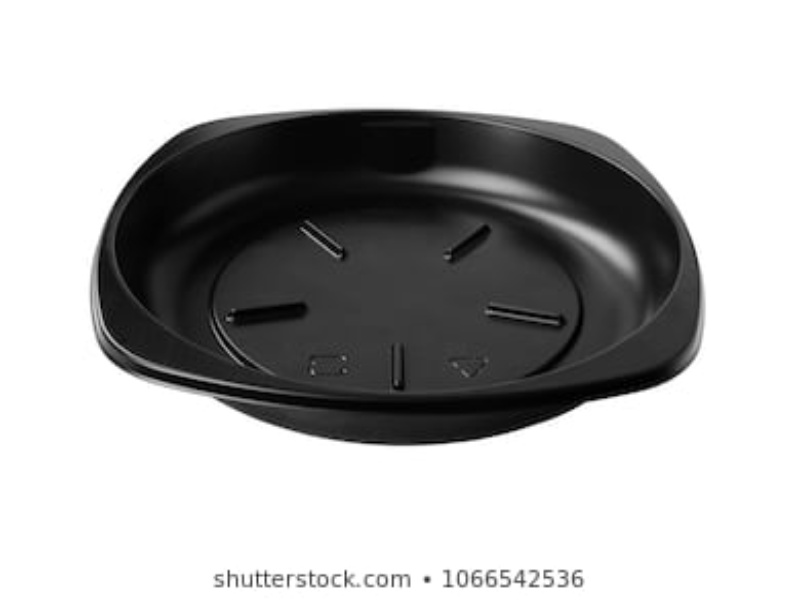plastic-plate: (90, 103, 719, 446)
